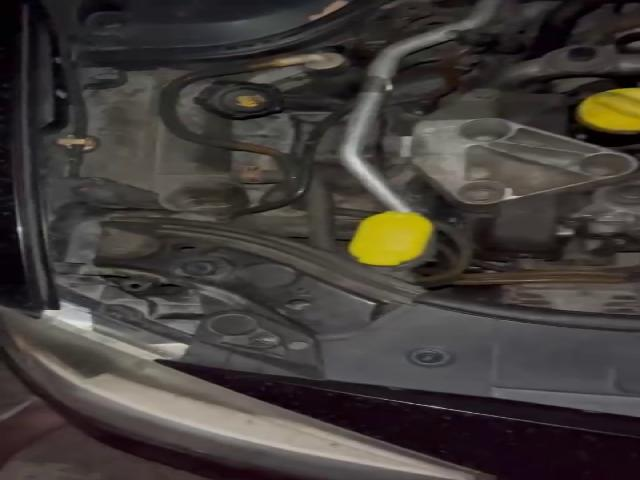antifreeze_tank: (73, 74, 250, 219), (177, 82, 283, 139)
